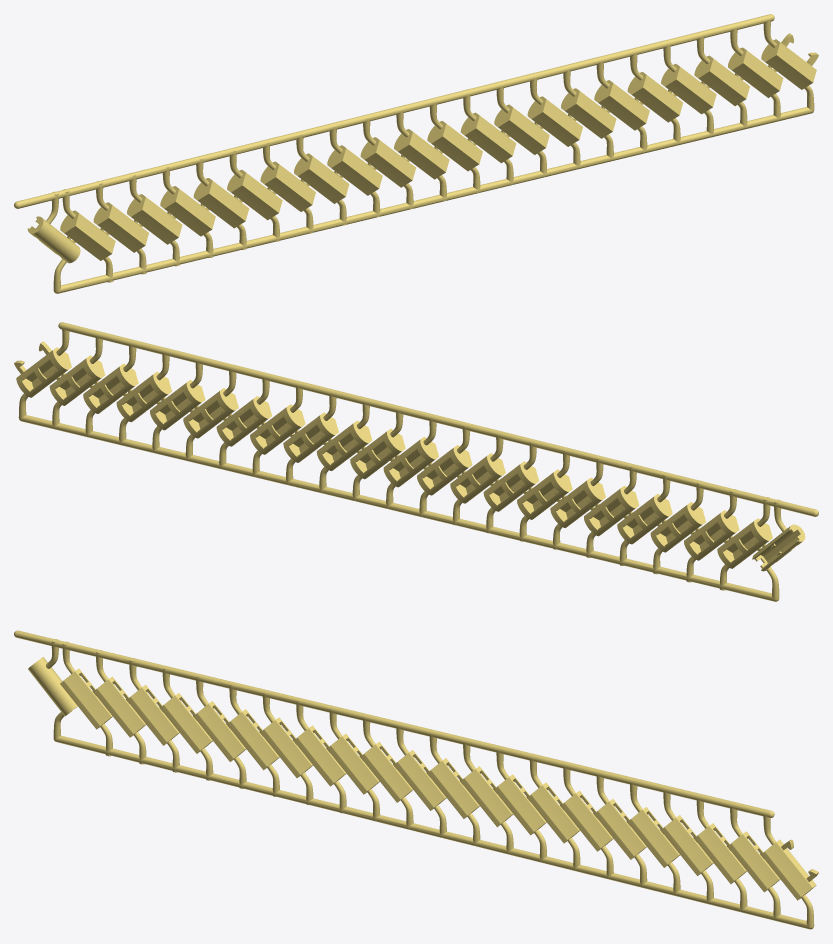
The model's file is yzn5-77_a_sade.glb.
3 views of the same model, one above another, from view 1: azimuth 30°, elevation 25°; view 2: azimuth 150°, elevation 25°; view 3: azimuth 330°, elevation 25° (orthographic).
Parts seen in each view (by area): view 1: Renderer Node; view 2: Renderer Node; view 3: Renderer Node.
Boxes of the visible parts, x1=… form: Renderer Node: x1=14, y1=14, x2=818, y2=293; Renderer Node: x1=14, y1=322, x2=818, y2=601; Renderer Node: x1=14, y1=630, x2=818, y2=929.
Size of the model in its own units: 188 by 24.32 by 4.32.
